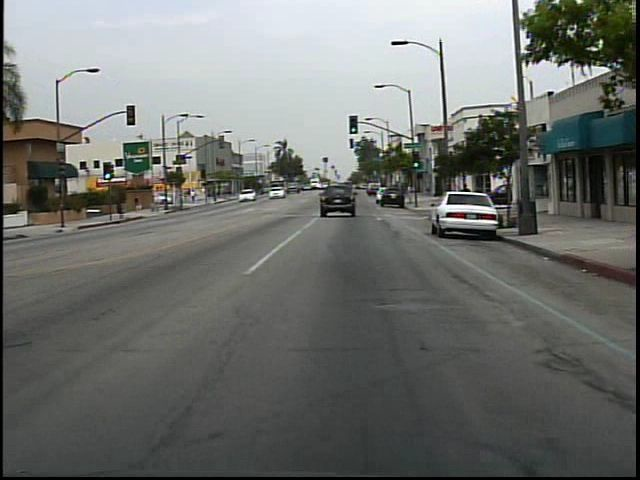person: (455, 178, 475, 217), (130, 191, 149, 220), (190, 188, 199, 206)
